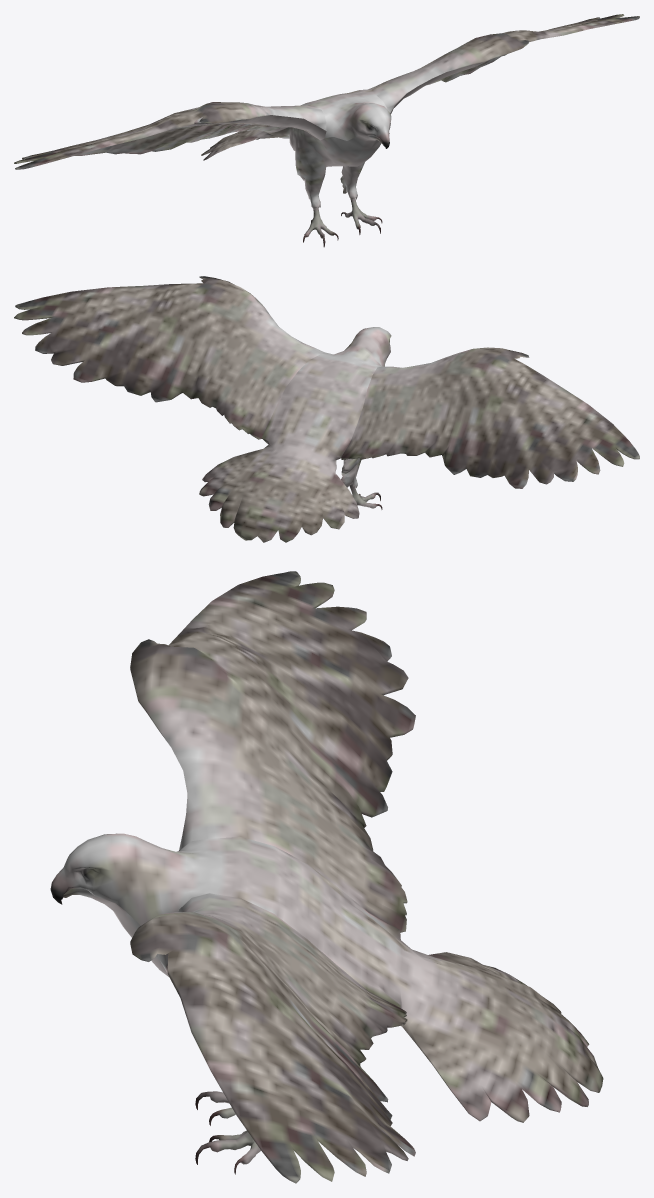
The model's file is bird.obj.
3 renders of one model, top to bottom at view 1: azimuth 30°, elevation 25°; view 2: azimuth 150°, elevation 25°; view 3: azimuth 270°, elevation 25°, orthographic. The views are drawn at different scales.
Parts seen in each view (by area): view 1: 1.1; view 2: 1.1; view 3: 1.1.
Boxes of the visible parts, x1,y1,x2,y2 form: 1.1: (14, 14, 639, 247); 1.1: (14, 276, 639, 542); 1.1: (50, 571, 603, 1183).
Size of the model in its own units: 3.79 by 1 by 1.45.
